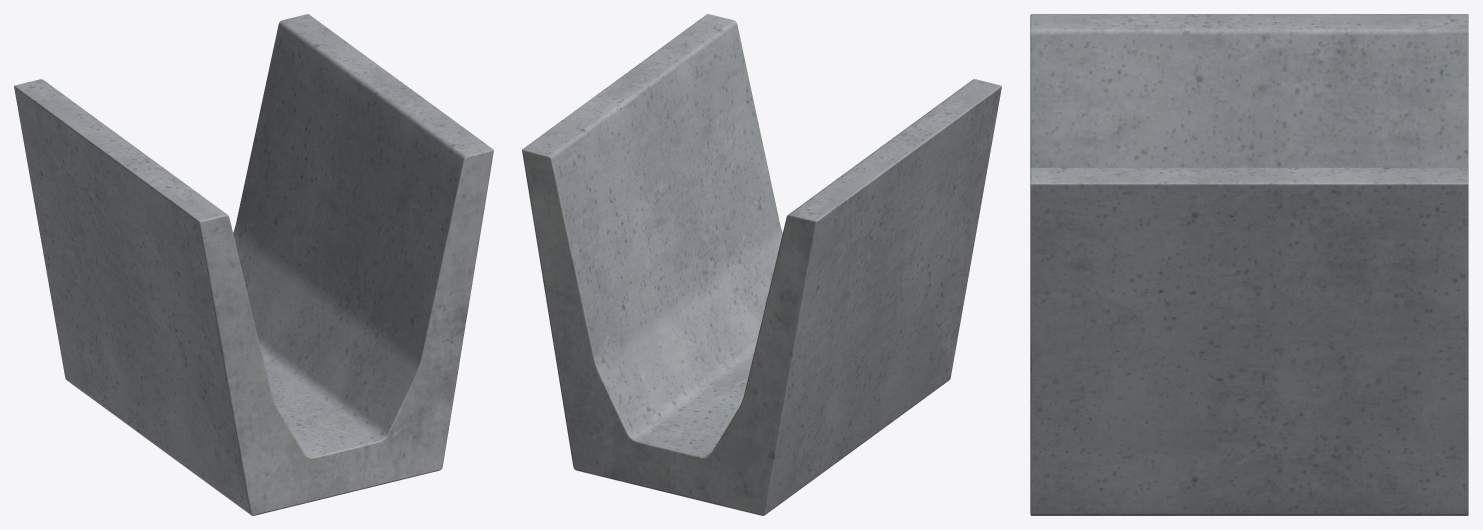
File: Korytko Krakowskie.glb
The picture shows the model from 3 angles, left to right: view 1: azimuth 30°, elevation 25°; view 2: azimuth 150°, elevation 25°; view 3: azimuth 270°, elevation 25°; orthographic projection. The views are drawn at different scales.
Parts seen in each view (by area): view 1: Korytko Krakowskie; view 2: Korytko Krakowskie; view 3: Korytko Krakowskie.
Part boxes in pixels (x1,y1,x2,y2): Korytko Krakowskie: (14,14,493,515); Korytko Krakowskie: (522,14,1001,515); Korytko Krakowskie: (1030,14,1468,515).
Size of the model in its own units: 0.6775 by 0.6769 by 0.7389.
Materials: 1 (1 with a texture image).
